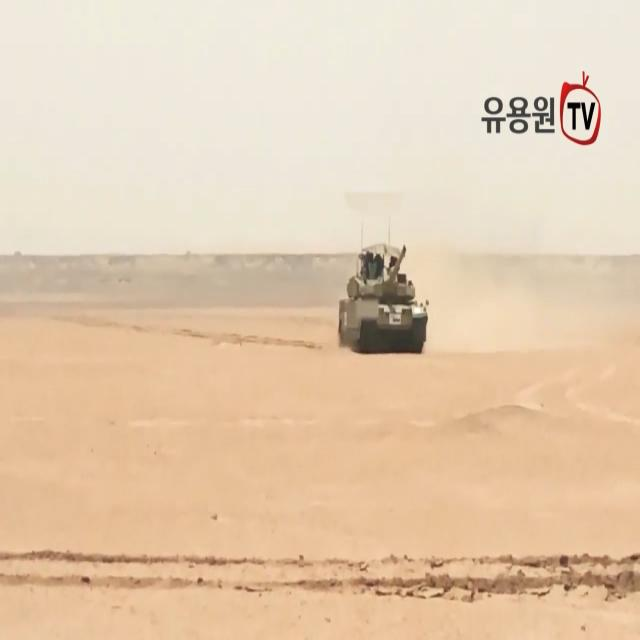korea tank: (337, 238, 431, 356)
